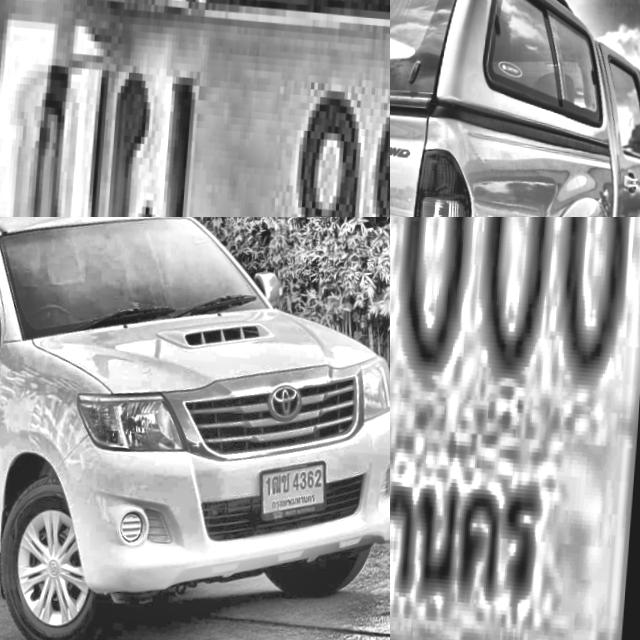license-plate: (390, 217, 640, 640), (0, 0, 390, 217), (258, 445, 334, 521)
